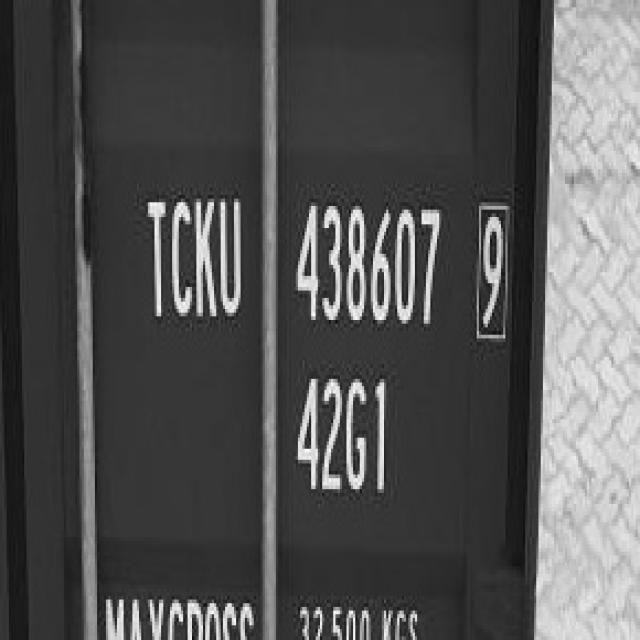dv: (467, 184, 517, 349)
owner: (136, 179, 246, 335)
serial: (292, 183, 446, 339)
size: (288, 360, 408, 510)
